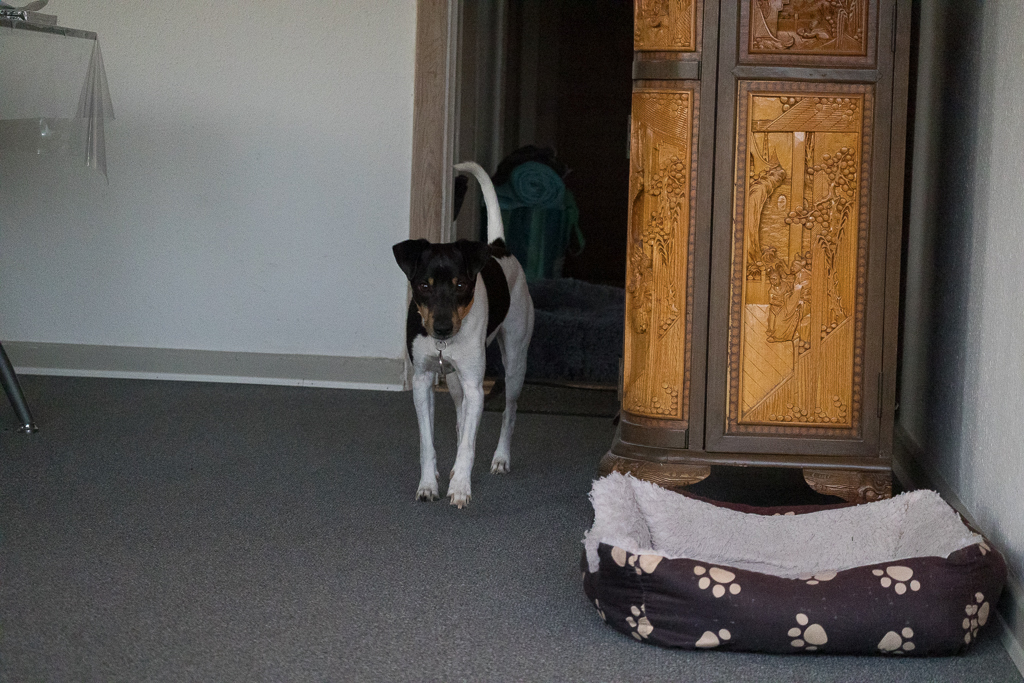Dog: (385, 155, 541, 520)
